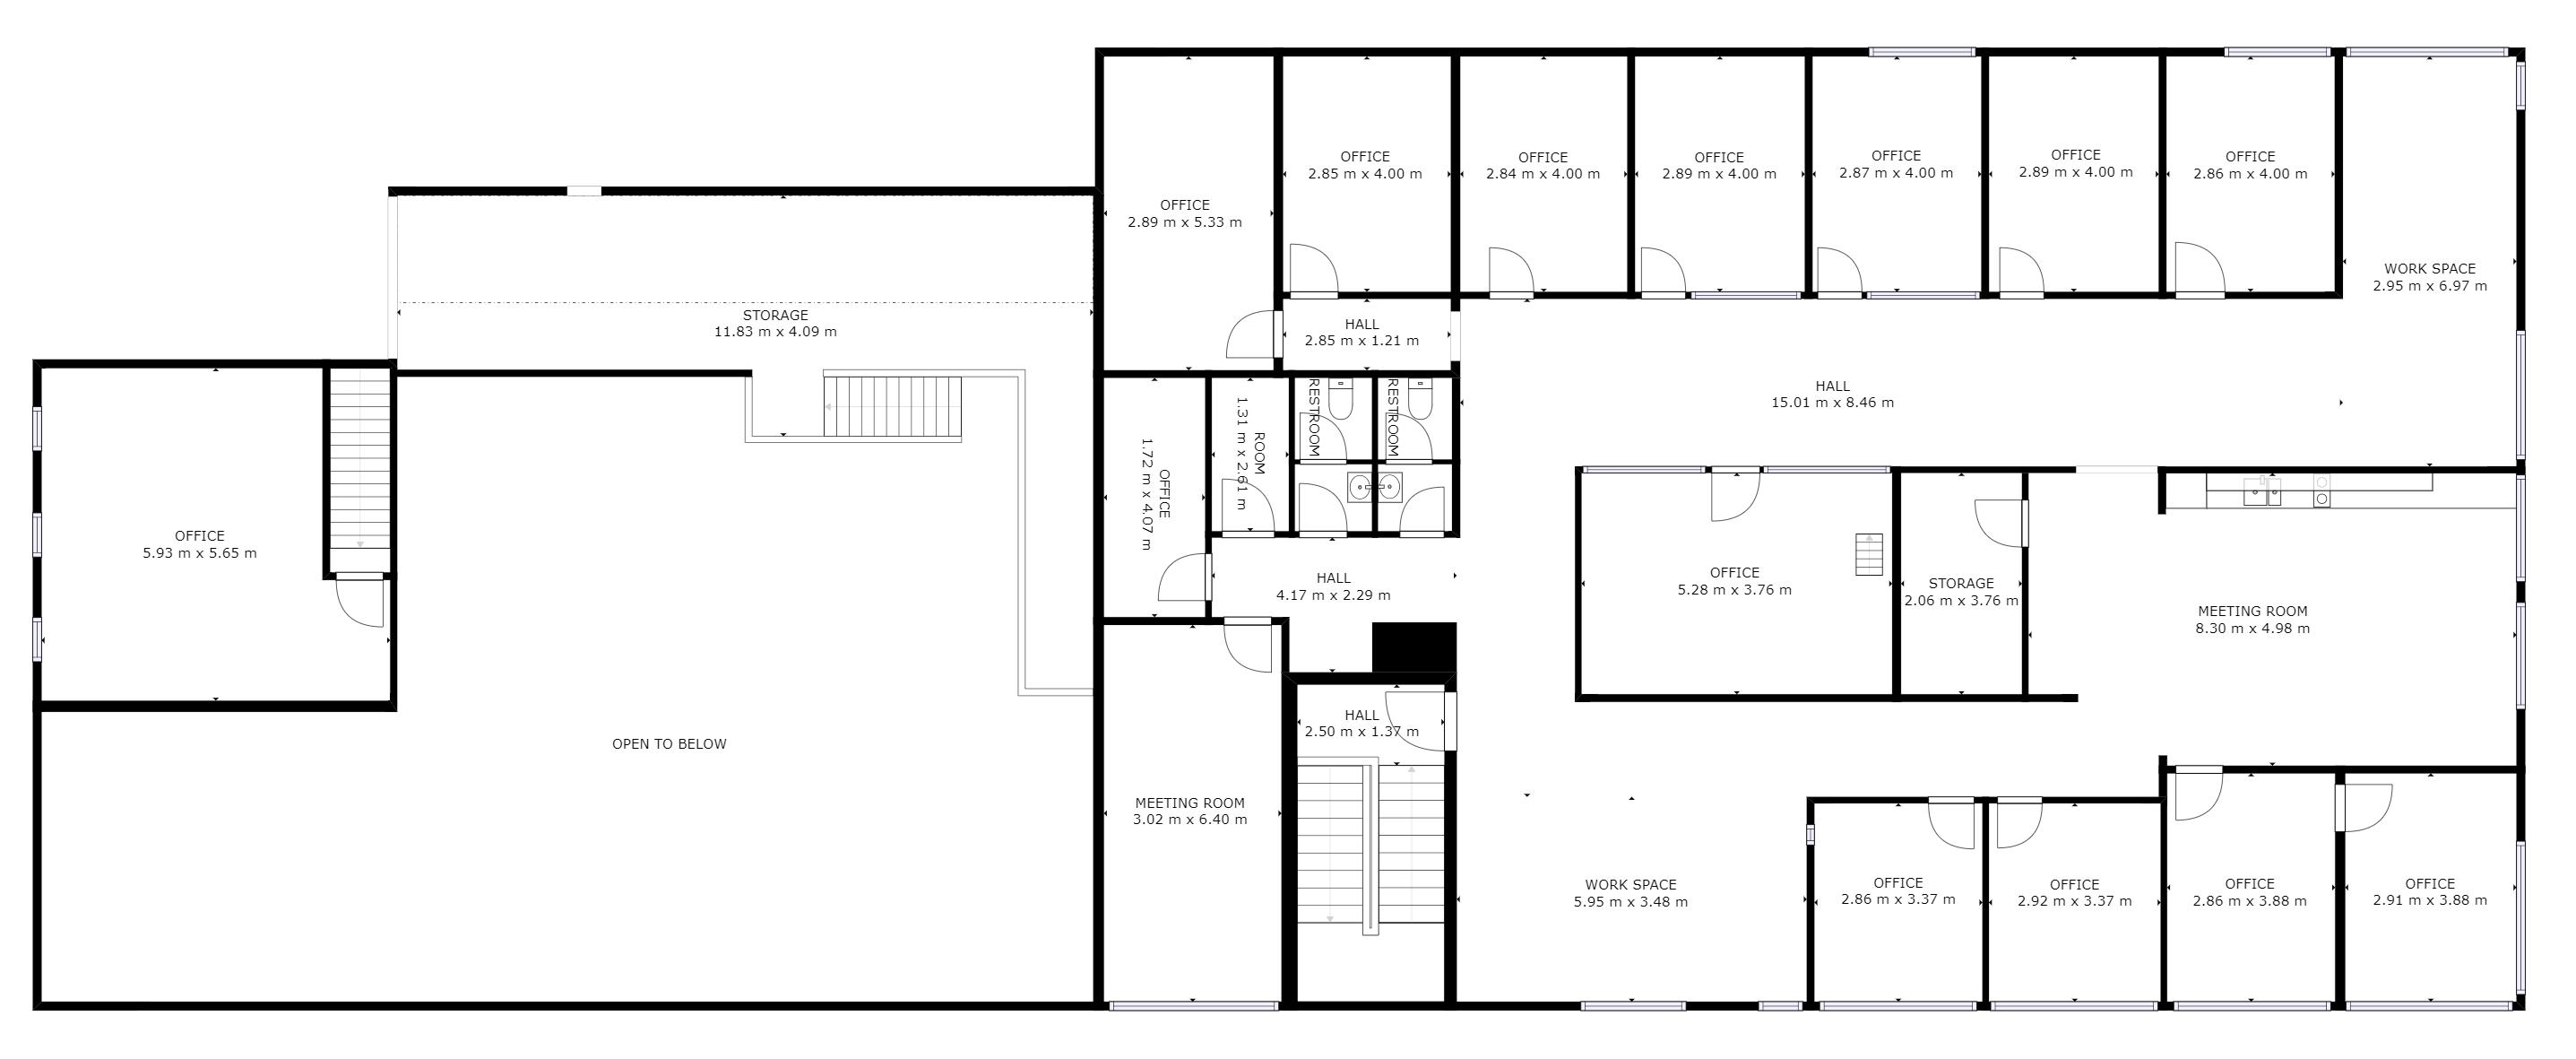room: (36, 363, 393, 707), (1579, 467, 1897, 697), (1101, 620, 1288, 1005), (1099, 53, 1280, 375), (2338, 770, 2523, 1006), (2162, 54, 2339, 298), (1278, 53, 1456, 296), (1985, 53, 2162, 294), (1809, 53, 1985, 296), (1631, 54, 1807, 296), (1457, 53, 1633, 294), (2164, 770, 2339, 1006), (1986, 799, 2164, 1005), (1810, 801, 1986, 1005), (1897, 467, 2026, 699), (1099, 373, 1209, 623), (1209, 375, 1291, 536), (1293, 375, 1375, 460), (1375, 375, 1456, 462), (1290, 460, 1377, 536), (1375, 462, 1456, 534)
